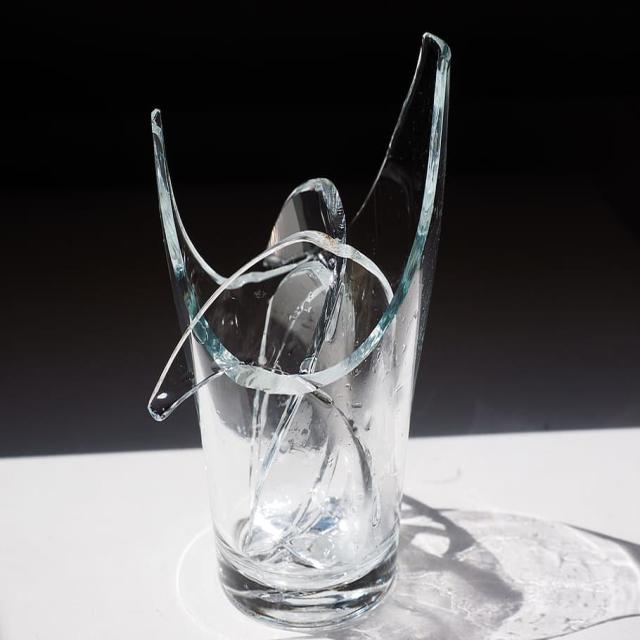Dry Waste: (148, 31, 451, 628)
